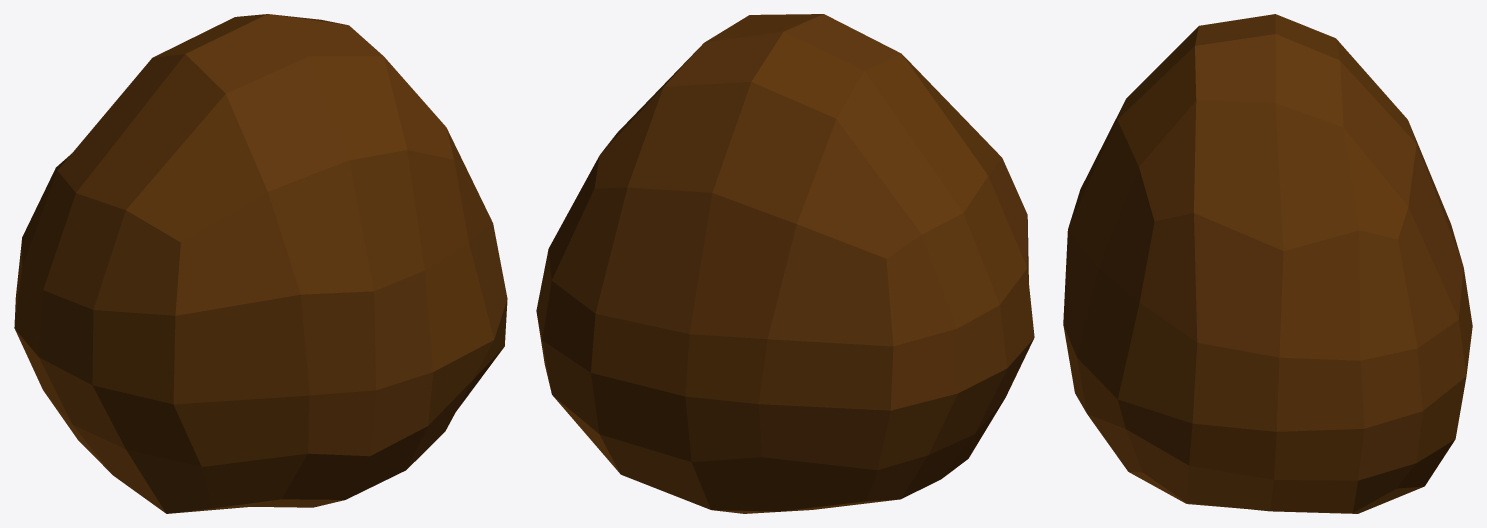
File: asteroid_1.fbx
The picture shows the model from 3 angles, left to right: view 1: azimuth 30°, elevation 25°; view 2: azimuth 150°, elevation 25°; view 3: azimuth 270°, elevation 25°; orthographic projection. The views are drawn at different scales.
Parts seen in each view (by area): view 1: Cube.002; view 2: Cube.002; view 3: Cube.002.
Part boxes in pixels (left/top/right/bottom): Cube.002: left=14, top=14, right=507, bottom=513; Cube.002: left=536, top=14, right=1034, bottom=513; Cube.002: left=1063, top=14, right=1472, bottom=513.
Size of the model in its own units: 634 by 642 by 518.
